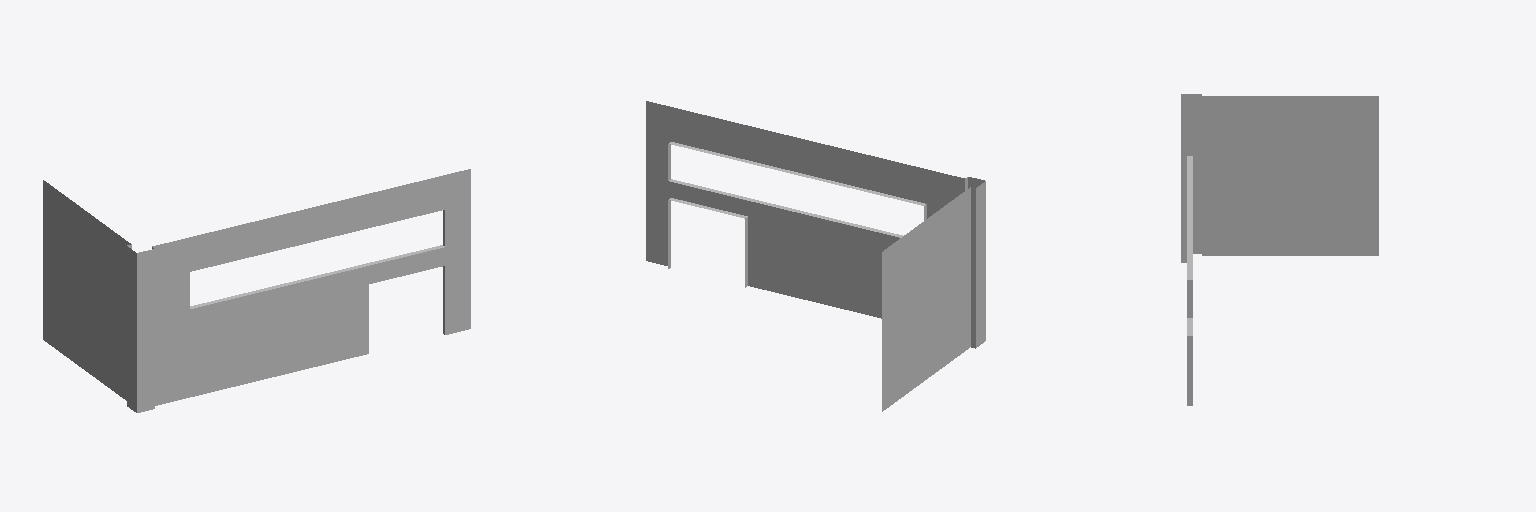
Rendered from industry_build_1.obj.
The picture shows the model from 3 angles: view 1: azimuth 30°, elevation 25°; view 2: azimuth 150°, elevation 25°; view 3: azimuth 270°, elevation 25°; orthographic projection.
Bounding box in the file's own units: 13.2 × 6 × 6.7.